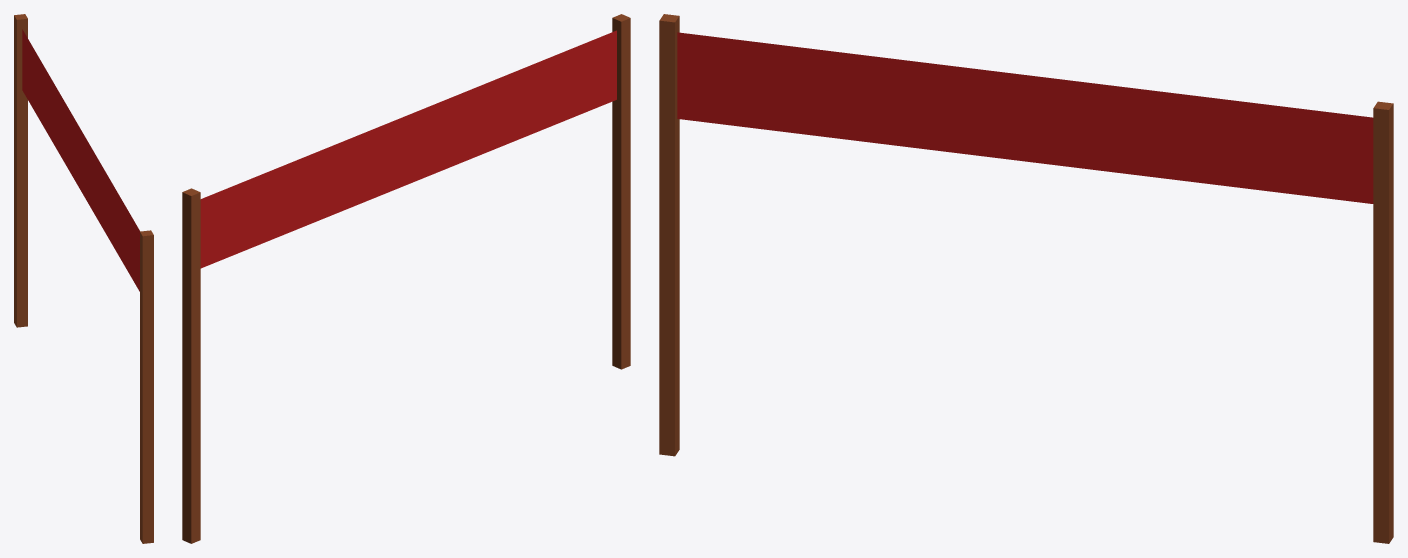
File: banner.obj
3 renders of one model, left to right at view 1: azimuth 30°, elevation 25°; view 2: azimuth 150°, elevation 25°; view 3: azimuth 270°, elevation 25°, orthographic. The views are drawn at different scales.
Parts seen in each view (by area): view 1: Cube_Cube.001; view 2: Cube_Cube.001; view 3: Cube_Cube.001.
Part boxes in pixels (x1=…): Cube_Cube.001: x1=14, y1=14, x2=153, y2=543; Cube_Cube.001: x1=182, y1=14, x2=630, y2=543; Cube_Cube.001: x1=659, y1=14, x2=1393, y2=543.
Size of the model in its own units: 0.07 by 0.1475 by 0.2261.
